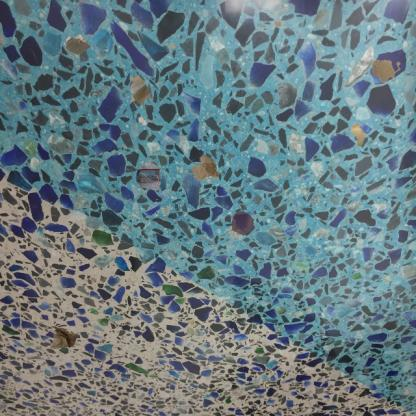dirty: (134, 158, 163, 192), (190, 152, 221, 183), (127, 73, 153, 106), (49, 326, 78, 351), (63, 32, 91, 56), (348, 121, 368, 147)
liquid: (370, 58, 402, 84), (230, 209, 256, 237)
